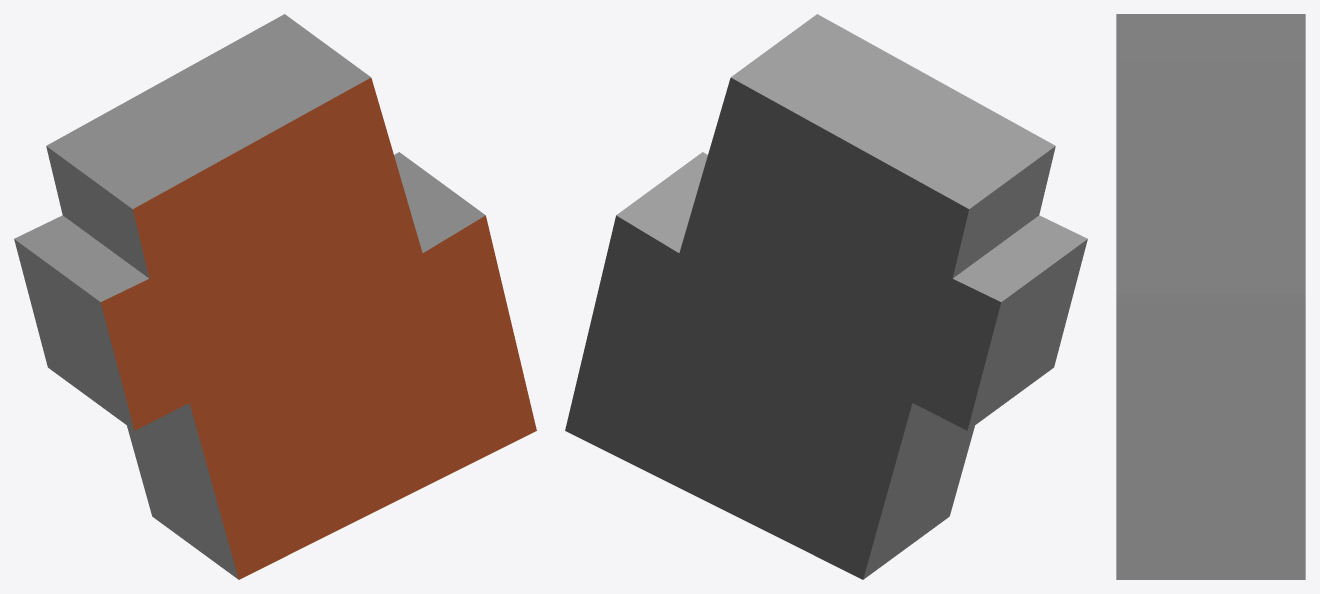
The model's file is construction_0693_assumed_A_Casa_h6m.obj.
3 renders of one model, left to right at view 1: azimuth 30°, elevation 25°; view 2: azimuth 150°, elevation 25°; view 3: azimuth 270°, elevation 25°, orthographic. The views are drawn at different scales.
Visible parts, largest first — view 1: construction_0693_assumed_A_Casa; view 2: construction_0693_assumed_A_Casa; view 3: construction_0693_assumed_A_Casa.
Boxes of the visible parts, left/top/right/bottom form: construction_0693_assumed_A_Casa: left=14, top=14, right=536, bottom=579; construction_0693_assumed_A_Casa: left=565, top=14, right=1087, bottom=579; construction_0693_assumed_A_Casa: left=1116, top=14, right=1305, bottom=579.
Size of the model in its own units: 17.44 by 17.97 by 6.
